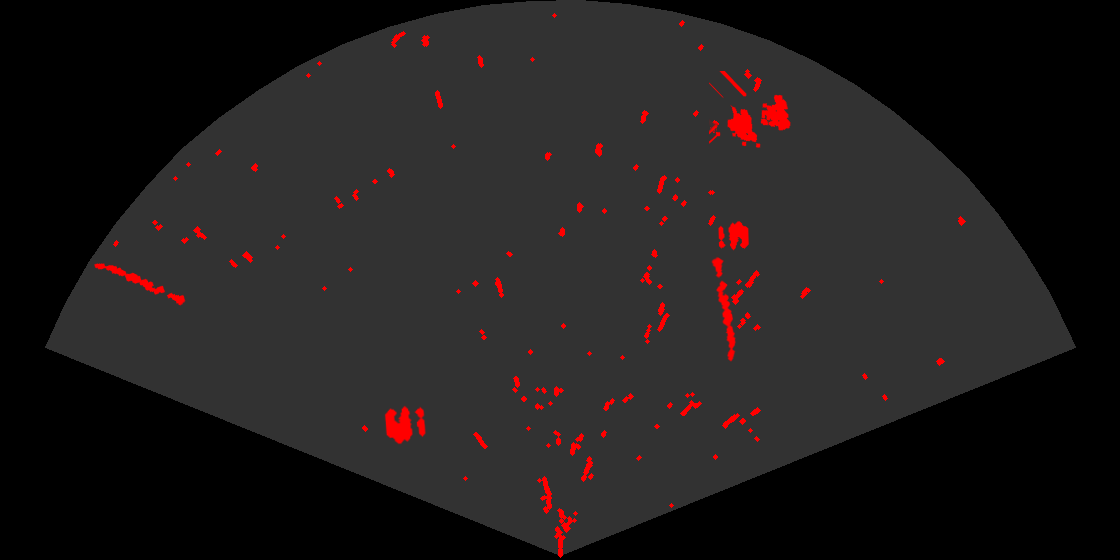ball: (383, 404, 427, 446), (717, 220, 750, 252)
cage: (709, 71, 792, 149)
chain: (93, 262, 187, 307), (710, 255, 737, 363)
